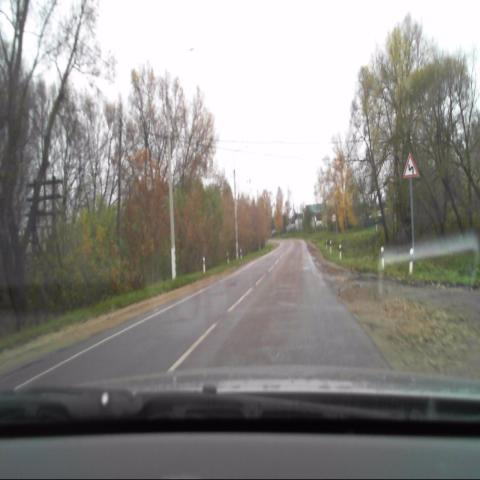1_12_2: (402, 151, 419, 178)
